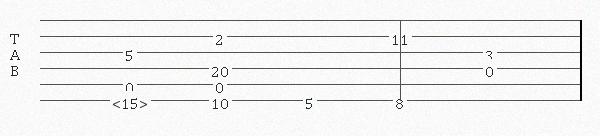0: (125, 77, 138, 91), (215, 77, 228, 91), (485, 61, 498, 75)
10: (211, 93, 233, 107)
11: (391, 29, 413, 43)
2: (215, 29, 228, 43)
20: (211, 61, 233, 75)
3: (485, 45, 498, 59)
5: (125, 45, 138, 60), (305, 93, 318, 108)
8: (395, 93, 408, 107)
harmonic: (112, 93, 152, 108)
